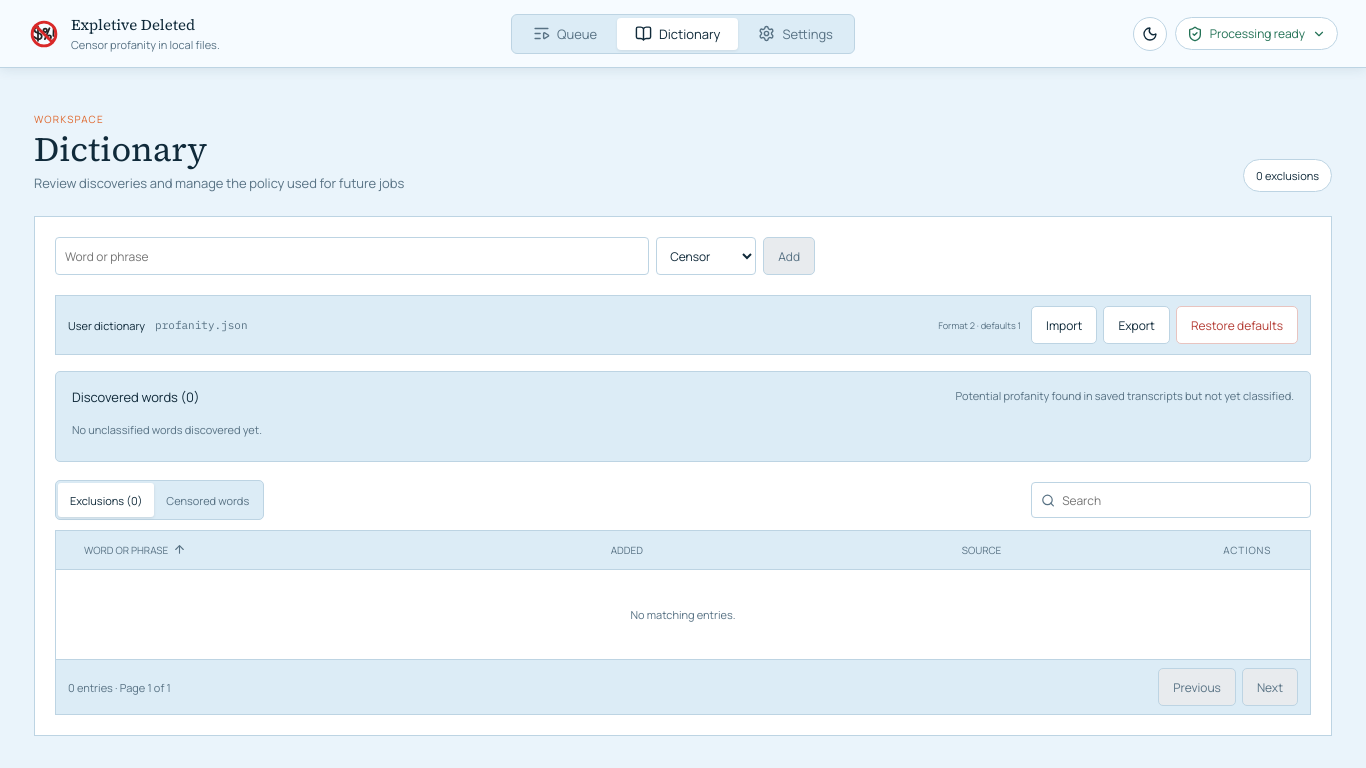
desktop application renderer › shows native Import picker failures
This screenshot has width=1366, height=768.
What coordinates should you click on to do the following:
click the button "Import"
I would click on:
 (1064, 325)
Its box is [1031,306,1097,344].
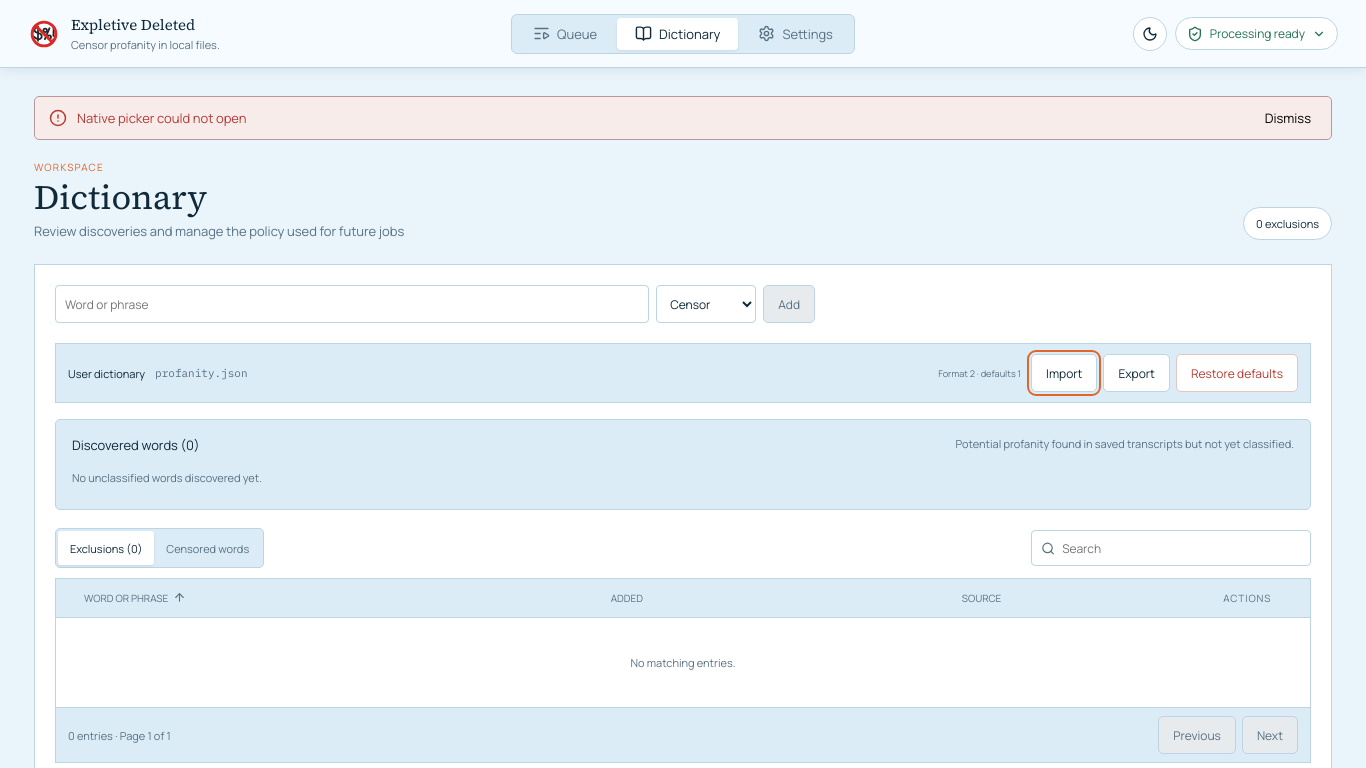
Now the text "Native picker could not open" is shown, box [77,109,246,127]
